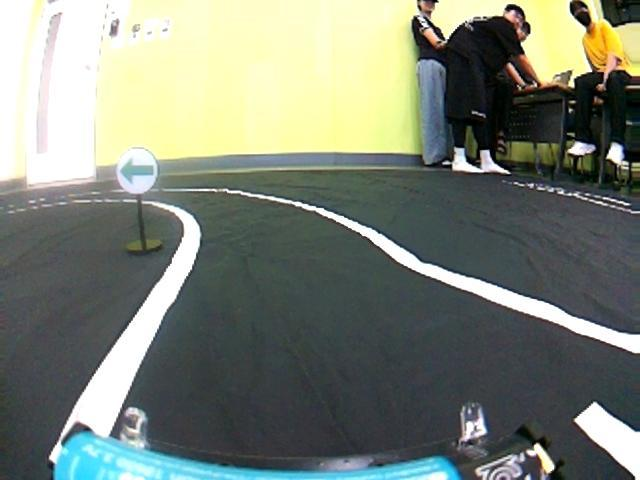sign_left: (114, 146, 171, 195)
straight: (75, 226, 608, 479)
